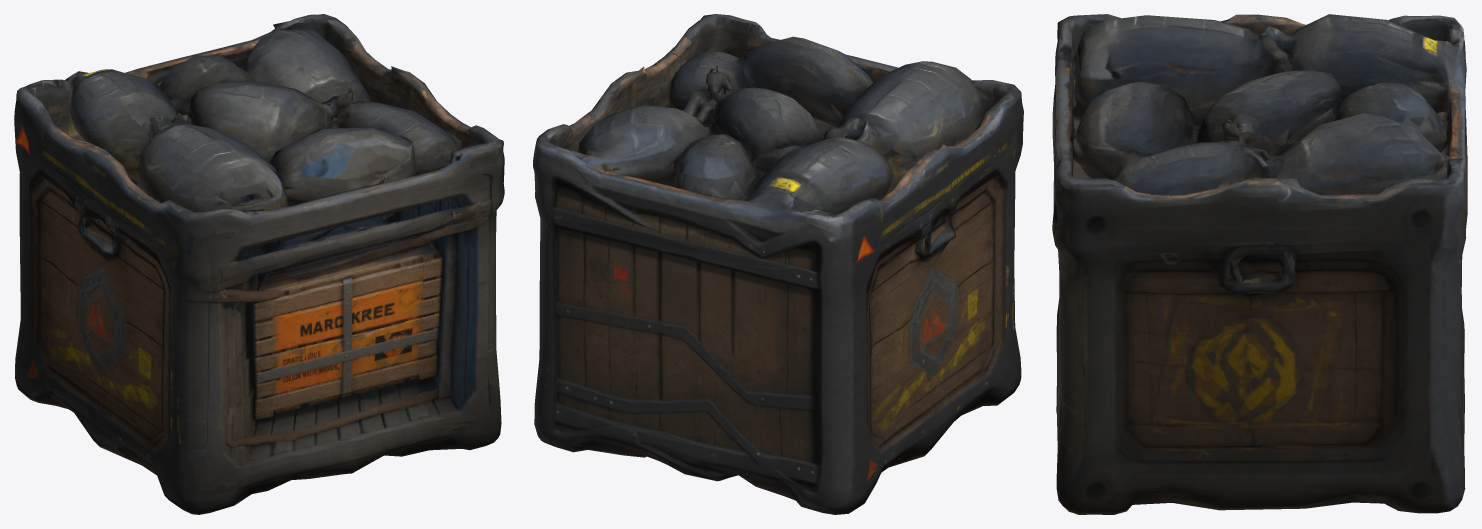
File: BagsCrateModel.fbx
The picture shows the model from 3 angles, left to right: view 1: azimuth 30°, elevation 25°; view 2: azimuth 150°, elevation 25°; view 3: azimuth 270°, elevation 25°; orthographic projection. The views are drawn at different scales.
Parts seen in each view (by area): view 1: Mesh1; view 2: Mesh1; view 3: Mesh1.
Part boxes in pixels (<box>): Mesh1: <box>14,14,504,514</box>; Mesh1: <box>533,14,1023,514</box>; Mesh1: <box>1052,14,1467,514</box>.
Size of the model in its own units: 199 by 188 by 195.
Materials: 1 (1 with a texture image).
